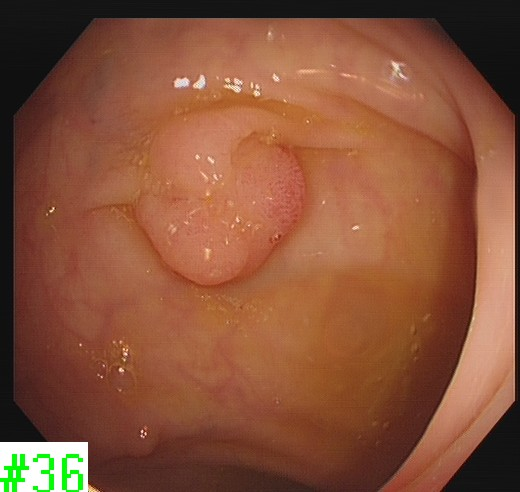adenoma: (137, 102, 308, 290)
